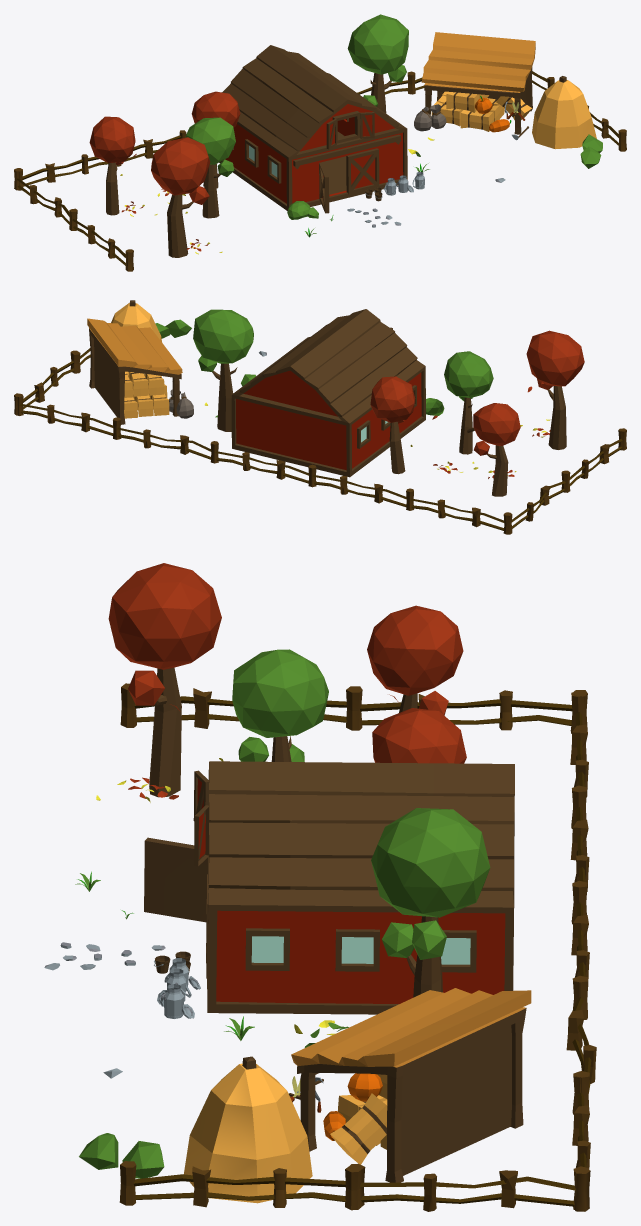
Rendered from garden0.glb.
3 views of the same model, one above another, from view 1: azimuth 30°, elevation 25°; view 2: azimuth 150°, elevation 25°; view 3: azimuth 270°, elevation 25° (orthographic). The views are drawn at different scales.
Parts seen in each view (by area): view 1: ambar, storage, tree1.004, tree, hay, tree.002, tree1.002, hay1.009, tree1.003, fence1.010, fence1.009, fence (+4 smaller); view 2: ambar, storage, tree, tree1.004, tree1.002, tree.002, tree1.003, hay1.009, fence.006, fence1.011, fence1.012, fence1.010 (+6 smaller); view 3: ambar, storage, tree1.004, tree, hay, tree.002, tree1.002, fence1.006, tree1.003, fence.002, hay1.009, fence1.009 (+7 smaller).
Boxes of the visible parts, x1,y1,x2,y2 form: ambar: [219, 45, 407, 213]; storage: [421, 32, 535, 134]; tree1.004: [151, 137, 210, 257]; tree: [347, 14, 408, 113]; hay: [532, 76, 596, 149]; tree.002: [185, 117, 235, 218]; tree1.002: [89, 116, 135, 215]; hay1.009: [431, 91, 532, 131]; tree1.003: [191, 91, 240, 188]; fence1.010: [15, 154, 118, 190]; fence1.009: [69, 208, 133, 271]; fence: [14, 168, 75, 230]; ambar: [231, 309, 425, 477]; storage: [87, 318, 182, 424]; tree: [193, 309, 255, 431]; tree1.004: [526, 330, 584, 449]; tree1.002: [473, 403, 520, 496]; tree.002: [444, 351, 493, 454]; tree1.003: [370, 376, 415, 474]; hay1.009: [124, 371, 169, 418]; fence.006: [113, 417, 218, 463]; fence1.011: [309, 464, 409, 510]; fence1.012: [15, 394, 121, 438]; fence1.010: [406, 488, 511, 533]; ambar: [144, 761, 514, 1014]; storage: [289, 988, 531, 1182]; tree1.004: [108, 563, 221, 797]; tree: [371, 808, 490, 997]; hay: [184, 1056, 312, 1203]; tree.002: [232, 649, 328, 761]; tree1.002: [367, 605, 463, 715]; fence1.006: [119, 1161, 361, 1210]; tree1.003: [372, 708, 466, 763]; fence.002: [349, 1163, 590, 1211]; hay1.009: [330, 1074, 387, 1164]; fence1.009: [120, 683, 362, 730].
Size of the model in its own units: 33.78 by 7.87 by 16.11.
